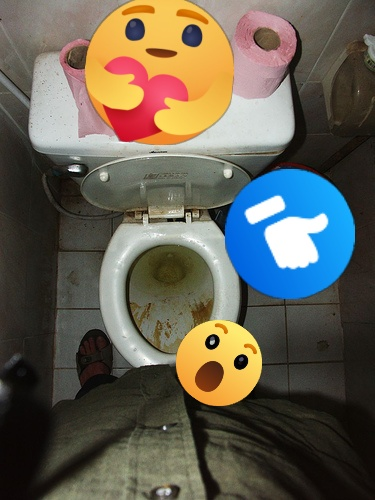care: (85, 0, 234, 145)
like: (225, 169, 355, 299)
wow: (176, 320, 262, 406)
